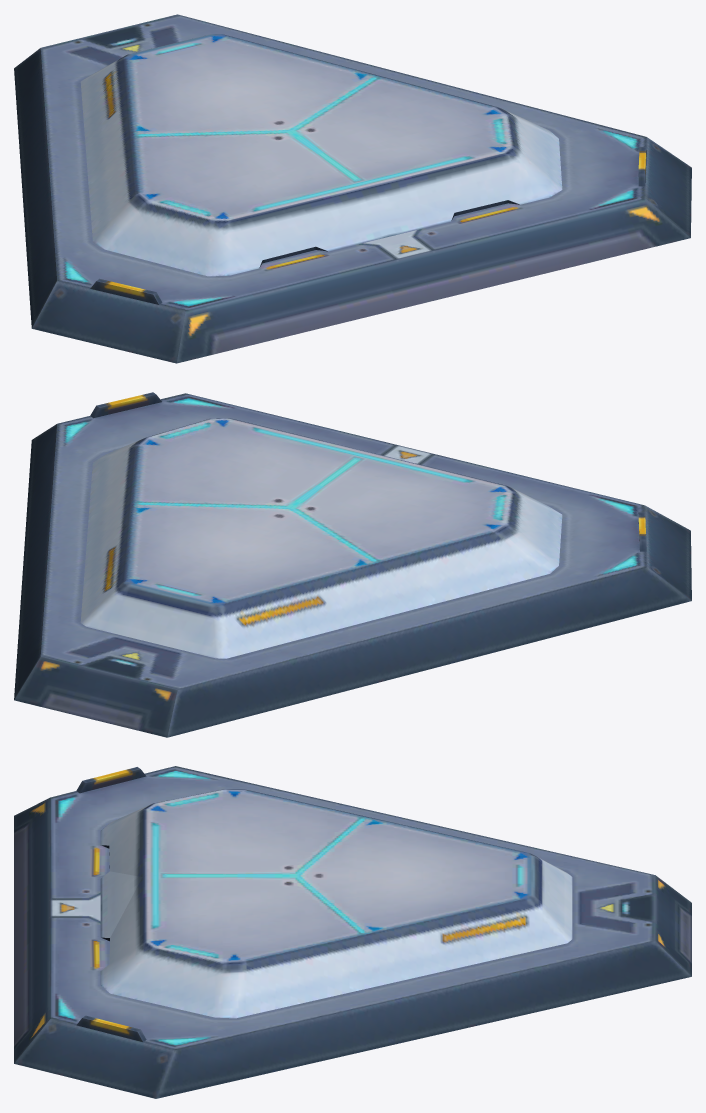
The model's file is MP_Raid_Dark_Chip.fbx.
The picture shows the model from 3 angles, top to bottom: view 1: azimuth 30°, elevation 25°; view 2: azimuth 150°, elevation 25°; view 3: azimuth 270°, elevation 25°; orthographic projection.
Parts seen in each view (by area): view 1: final_box_close; view 2: final_box_close; view 3: final_box_close.
Boxes of the visible parts, x1,y1,x2,y2 form: final_box_close: (14,14,691,363); final_box_close: (14,392,691,737); final_box_close: (14,766,691,1098).
Size of the model in its own units: 1.69 by 0.1584 by 1.52.
Materials: 1 (1 with a texture image).
